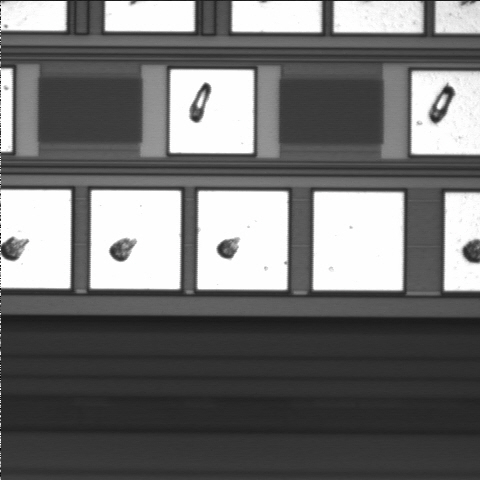pad: (90, 190, 181, 289), (197, 191, 288, 290), (313, 192, 403, 290), (170, 70, 254, 153)
